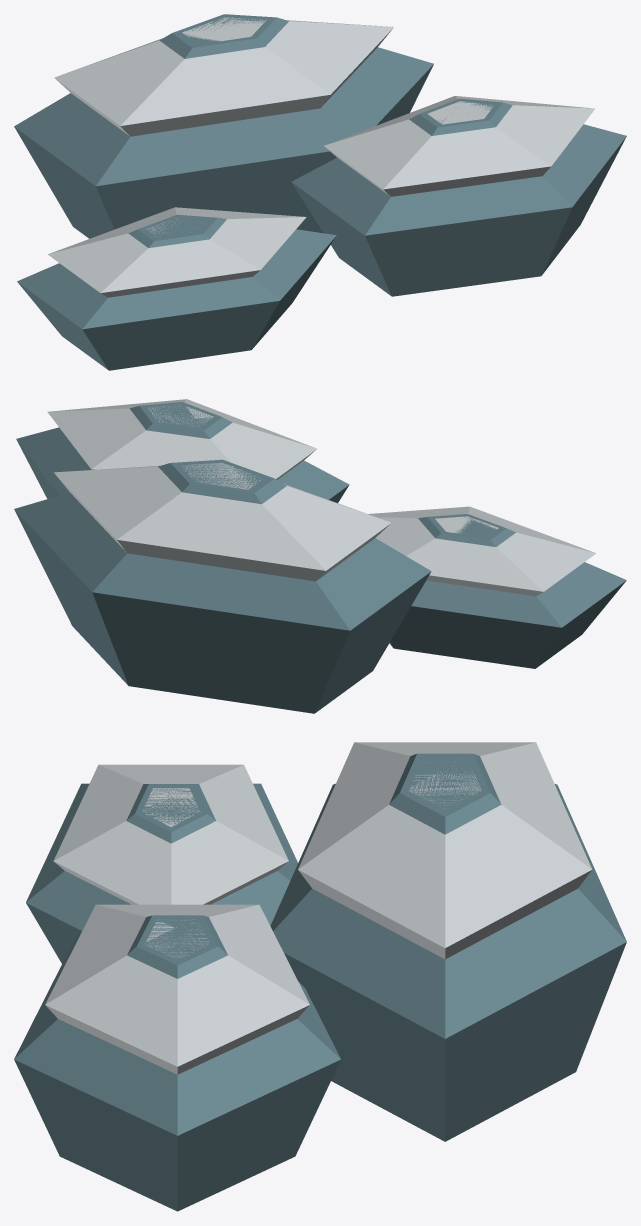
The model's file is shore_ice_heap.glb.
The picture shows the model from 3 angles, top to bottom: view 1: azimuth 30°, elevation 25°; view 2: azimuth 150°, elevation 25°; view 3: azimuth 270°, elevation 25°; orthographic projection. The views are drawn at different scales.
Visible parts, largest first — view 1: shore_ice_heap; view 2: shore_ice_heap; view 3: shore_ice_heap.
Boxes of the visible parts, x1,y1,x2,y2 form: shore_ice_heap: (14,14,626,370); shore_ice_heap: (14,399,626,713); shore_ice_heap: (14,742,626,1211).
Size of the model in its own units: 3 by 0.95 by 2.
